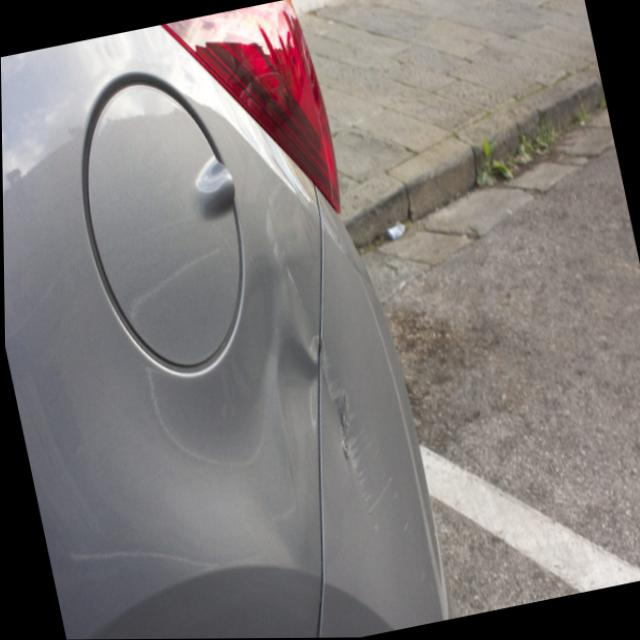Dent: (217, 278, 387, 536)
